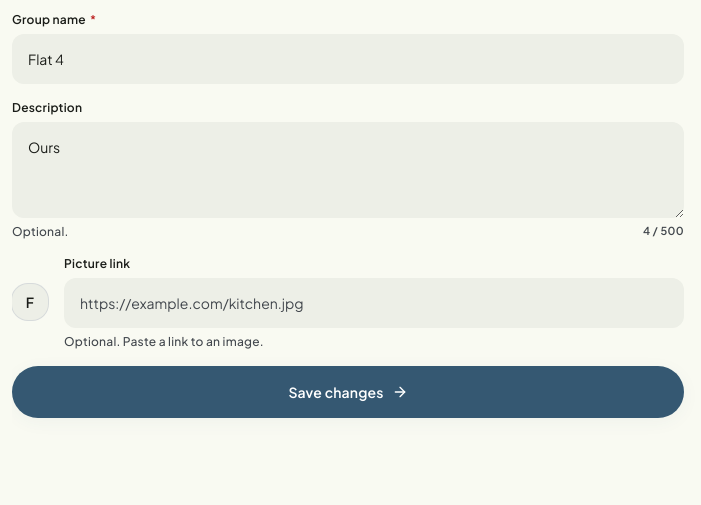
Test: EditGroupForm › says the details were saved
The image size is (701, 505).
Click the button "Save changes" at (348, 392), box [12,366,684,418]
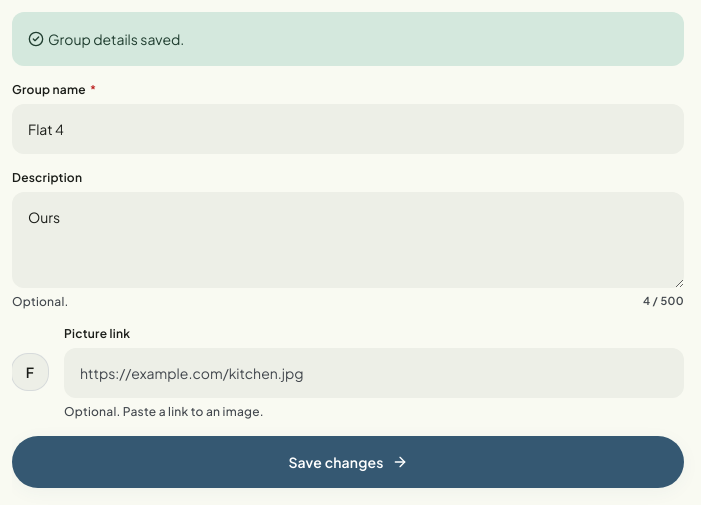
Expected: the text "Group details saved." is shown, [12,12,684,66]
